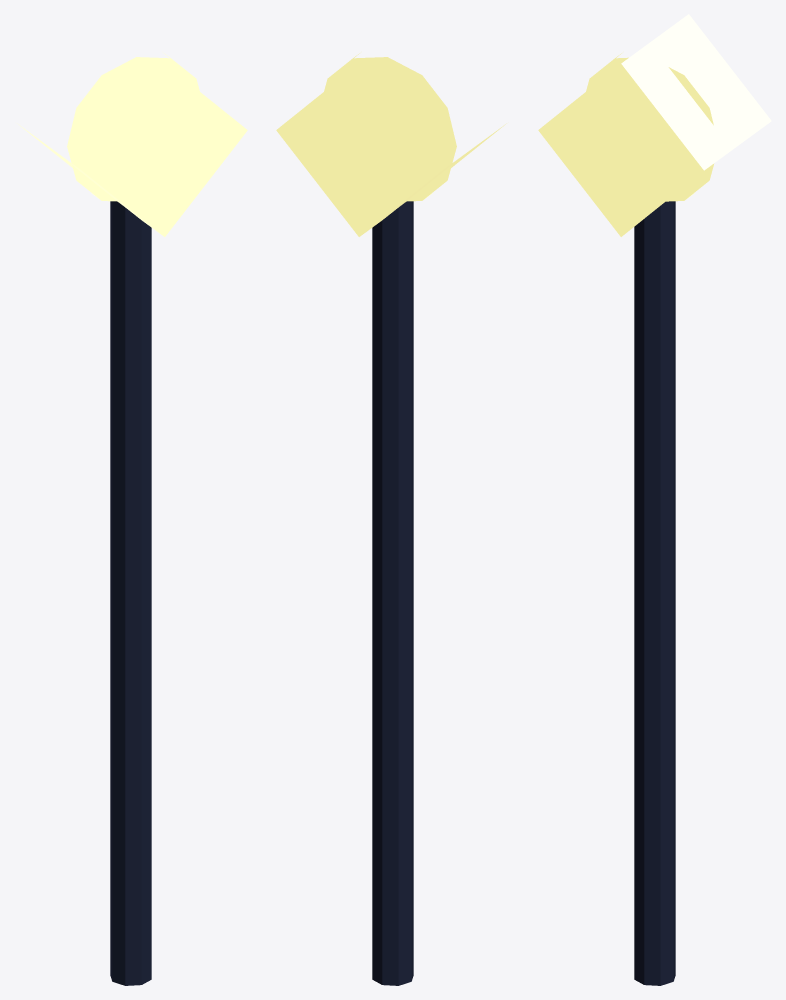
Rendered from arc-warden.glb.
3 views of the same model, side by side, from view 1: azimuth 30°, elevation 25°; view 2: azimuth 150°, elevation 25°; view 3: azimuth 330°, elevation 25° (orthographic).
Parts seen in each view (by area): view 1: arc-warden-shaft, arc-warden-head-gem, arc-warden-halo; view 2: arc-warden-shaft, arc-warden-head-gem, arc-warden-halo; view 3: arc-warden-shaft, arc-warden-head-gem, arc-warden-halo.
Part boxes in pixels (<box>): arc-warden-shaft: <box>110,201,151,985</box>; arc-warden-head-gem: <box>17,64,247,236</box>; arc-warden-halo: <box>67,53,199,201</box>; arc-warden-shaft: <box>372,201,413,985</box>; arc-warden-head-gem: <box>276,64,506,236</box>; arc-warden-halo: <box>324,53,456,201</box>; arc-warden-shaft: <box>634,201,675,985</box>; arc-warden-head-gem: <box>538,14,771,236</box>; arc-warden-halo: <box>586,53,714,201</box>.
Size of the model in its own units: 0.3111 by 1.68 by 0.22.
